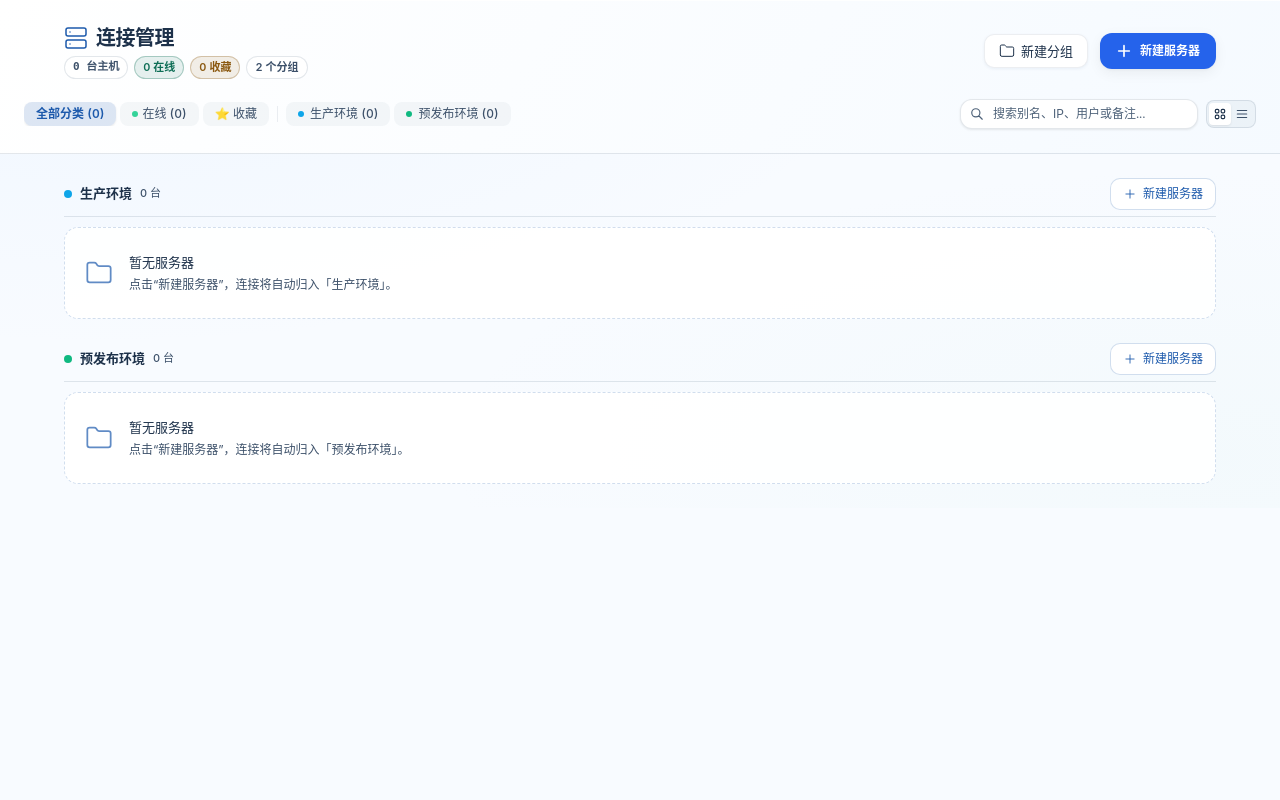
it: home group entry points › exposes group creation on the home page and blocks an empty name
The width and height of the screenshot is (1280, 800).
What coordinates should you click on to do the following:
click the button "新建分组"
I would click on:
 (1036, 51)
Its box is [984, 34, 1088, 68].
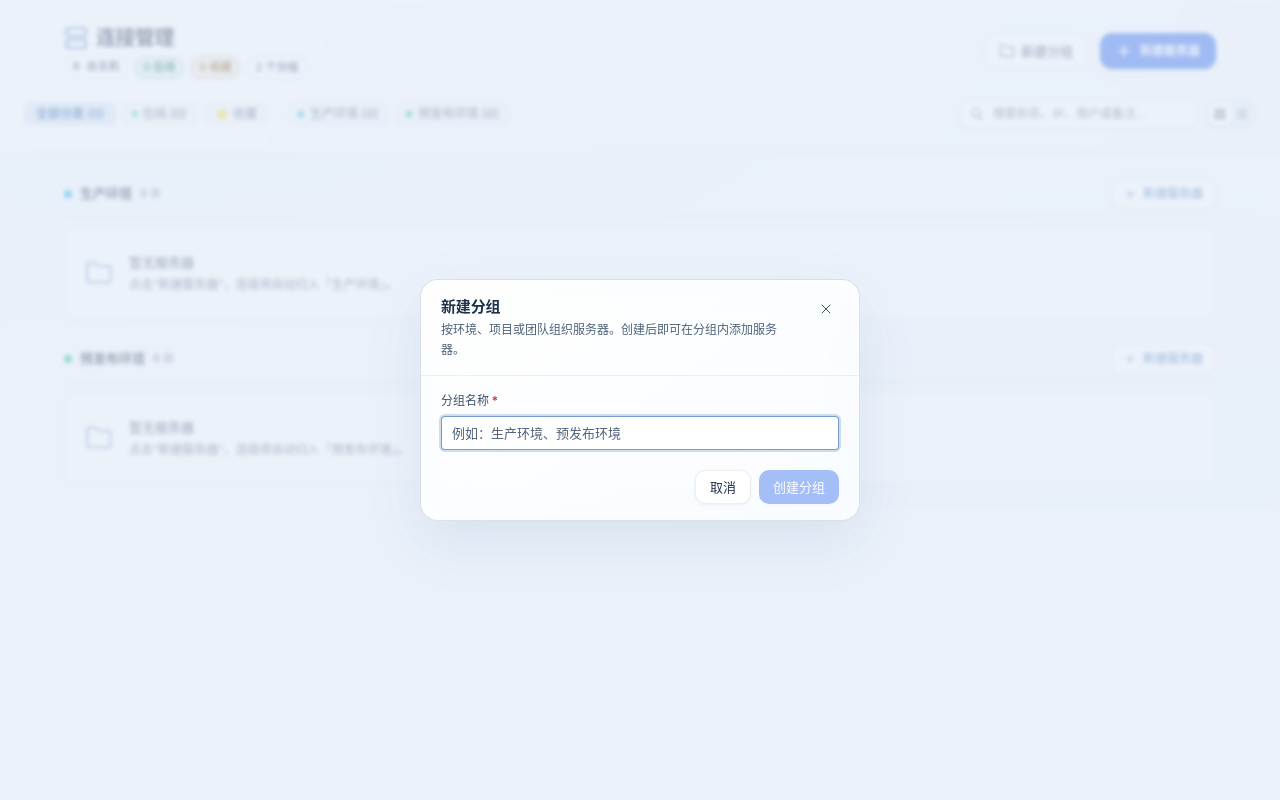
Expected: the dialog named "新建分组" is shown, [420, 279, 860, 521]
Expected: the submit button is disabled, [759, 470, 839, 504]
